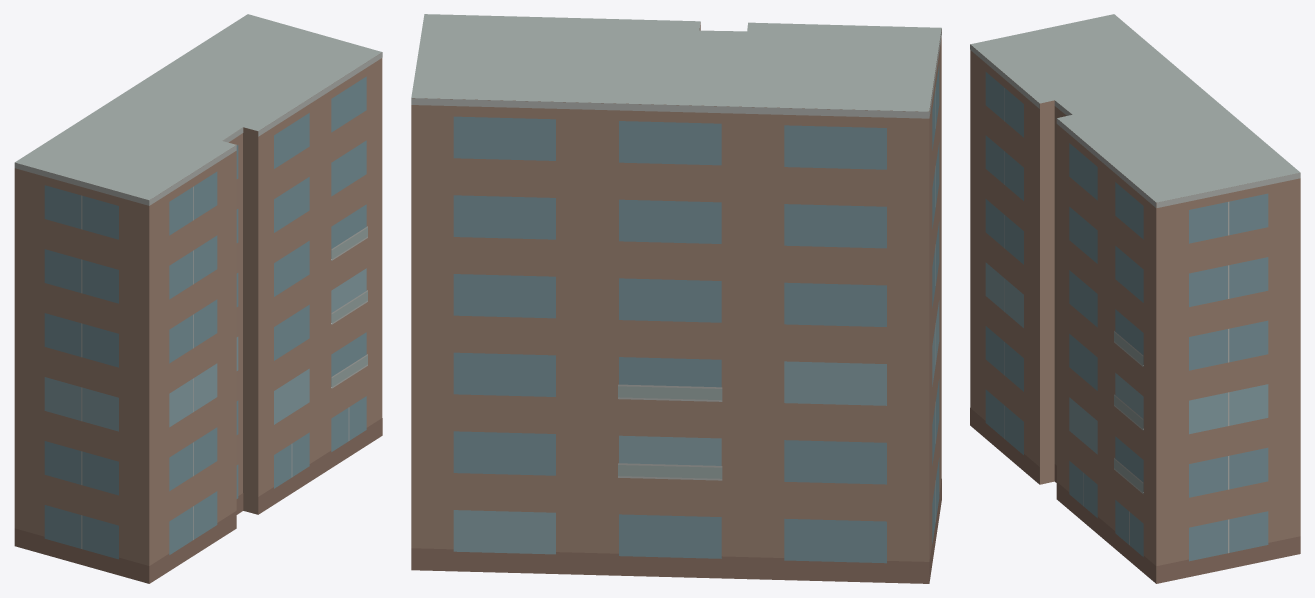
Rendered from survey-upis-33039232.glb.
3 renders of one model, left to right at view 1: azimuth 30°, elevation 25°; view 2: azimuth 150°, elevation 25°; view 3: azimuth 270°, elevation 25°, orthographic. The views are drawn at different scales.
Visible parts, largest first — view 1: survey-upis-33039232.tmp; view 2: survey-upis-33039232.tmp; view 3: survey-upis-33039232.tmp.
Part boxes in pixels (bbox=[...]): survey-upis-33039232.tmp: bbox=[14, 14, 382, 583]; survey-upis-33039232.tmp: bbox=[411, 14, 941, 583]; survey-upis-33039232.tmp: bbox=[970, 14, 1300, 583].
Bounding box in the file's own units: 17.63 × 16.6 × 13.05.
